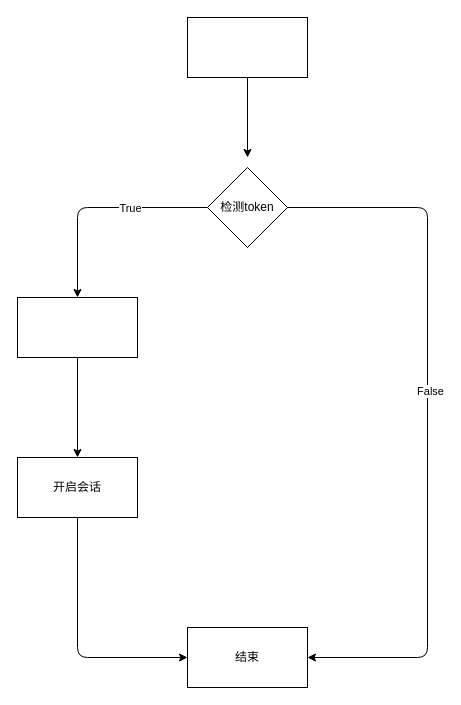
This 461x705 diagram has some shape labels left out. Here are the shapes that lost their labels. From the top down, the centre of each, then its label:
the point at 247,47: 开始
the point at 77,327: 获取openapi key
